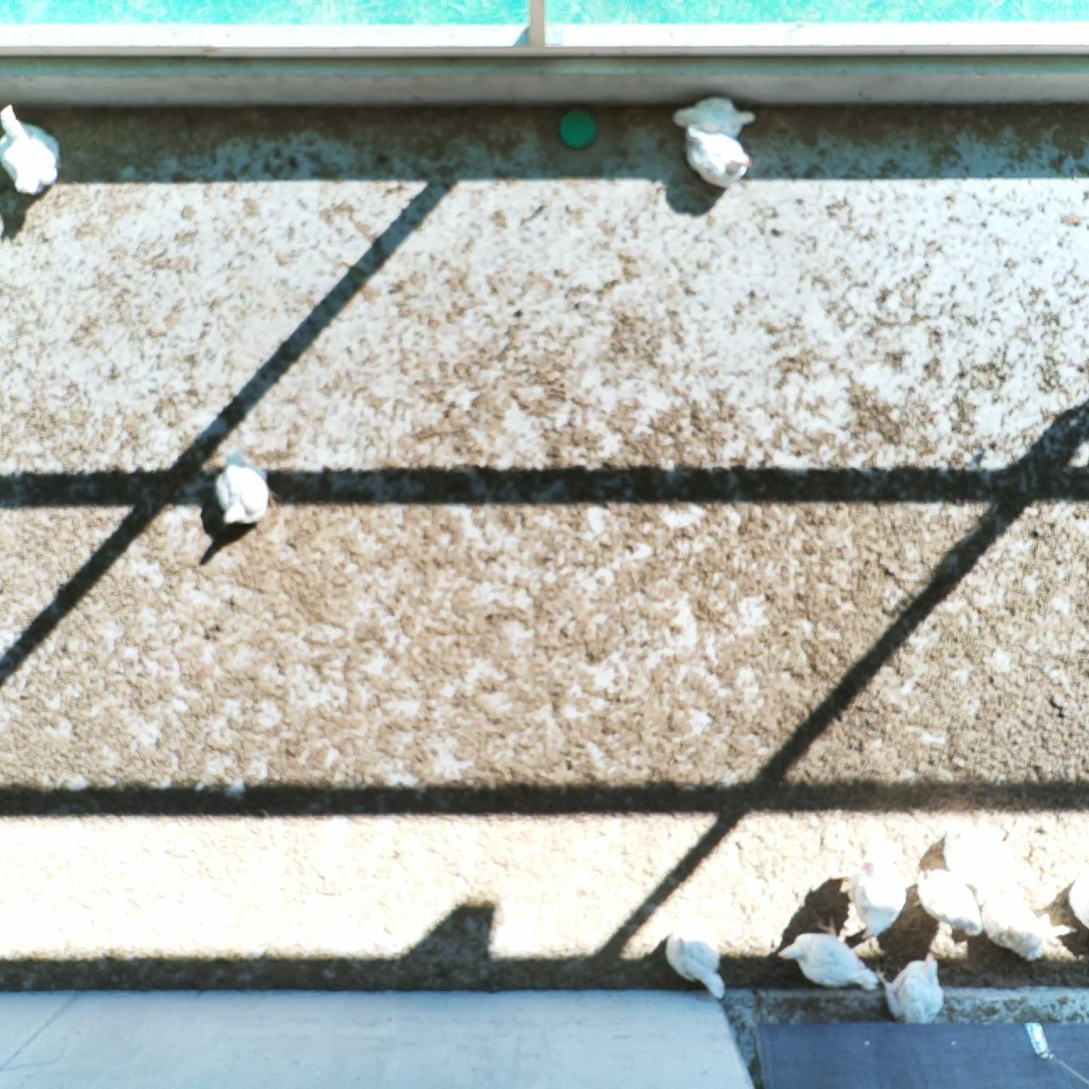chicken: (775, 912, 883, 1000), (833, 837, 912, 946), (937, 819, 1025, 904), (661, 922, 738, 1003), (0, 100, 63, 197), (212, 445, 282, 530), (872, 949, 943, 1028), (678, 123, 757, 194), (913, 864, 986, 938), (977, 893, 1049, 966), (670, 90, 763, 140), (1062, 863, 1089, 932)
